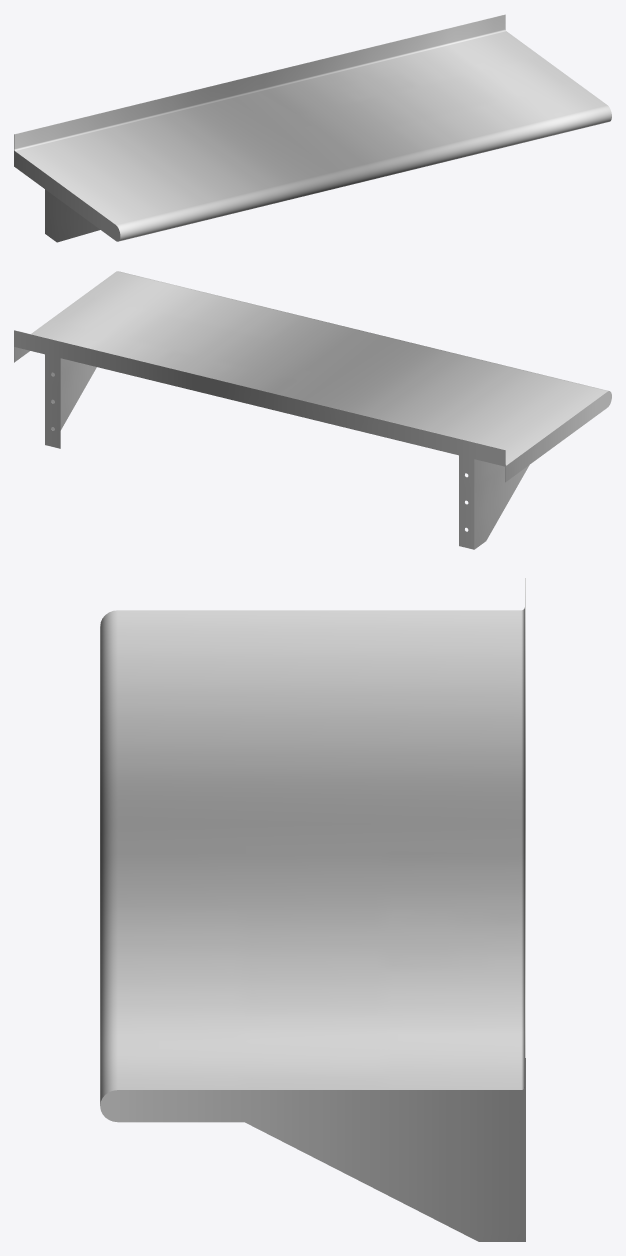
Rendered from stainlesssteel.glb.
The picture shows the model from 3 angles, top to bottom: view 1: azimuth 30°, elevation 25°; view 2: azimuth 150°, elevation 25°; view 3: azimuth 270°, elevation 25°; orthographic projection. The views are drawn at different scales.
Visible parts, largest first — view 1: stainlessSteelShelf; view 2: stainlessSteelShelf; view 3: stainlessSteelShelf.
Boxes of the visible parts, bbox=[...] form: stainlessSteelShelf: bbox=[14, 14, 611, 242]; stainlessSteelShelf: bbox=[14, 271, 611, 549]; stainlessSteelShelf: bbox=[100, 578, 525, 1241].
Bounding box in the file's own units: 48 × 10 × 18.
Materials: 1 (1 with a texture image).
